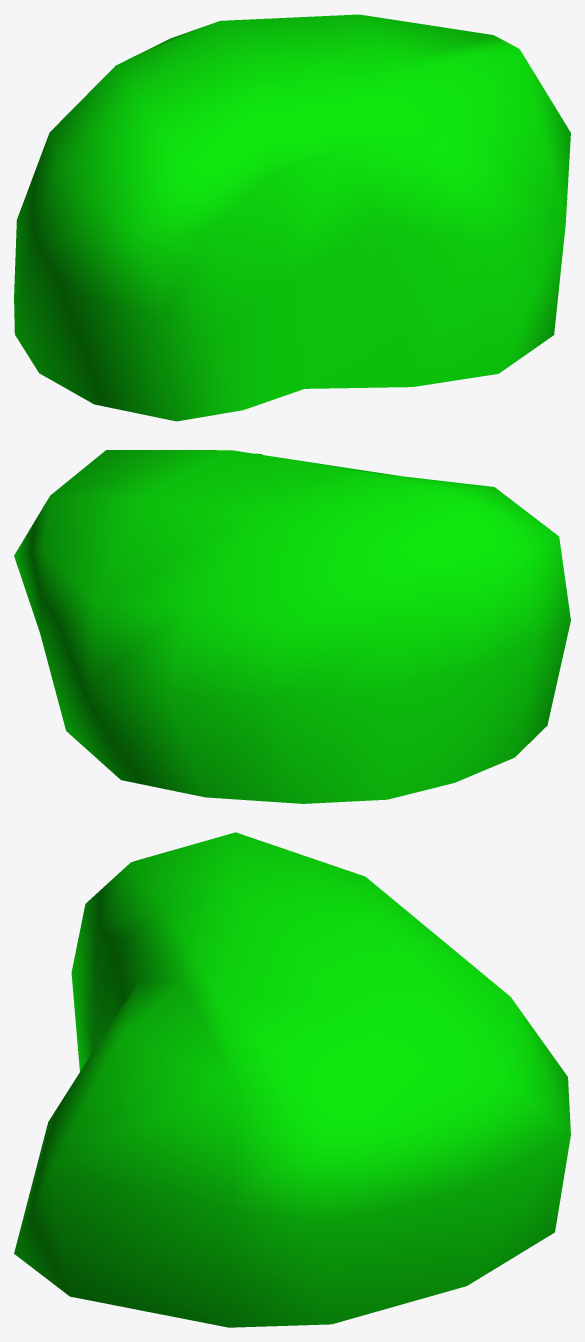
Rendered from m_rock2.fbx.
3 renders of one model, top to bottom at view 1: azimuth 30°, elevation 25°; view 2: azimuth 150°, elevation 25°; view 3: azimuth 270°, elevation 25°, orthographic. The views are drawn at different scales.
Parts seen in each view (by area): view 1: m_rock2; view 2: m_rock2; view 3: m_rock2.
Part boxes in pixels (x1=…): m_rock2: x1=14, y1=14, x2=570, y2=421; m_rock2: x1=14, y1=450, x2=570, y2=803; m_rock2: x1=14, y1=832, x2=570, y2=1327.
Bounding box in the file's own units: 1.99 × 0.9252 × 1.63.
